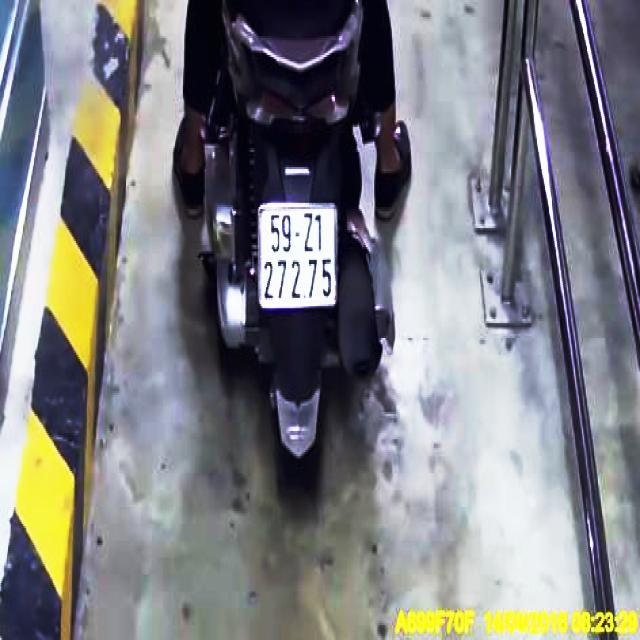license_plate: (261, 207, 338, 307)
